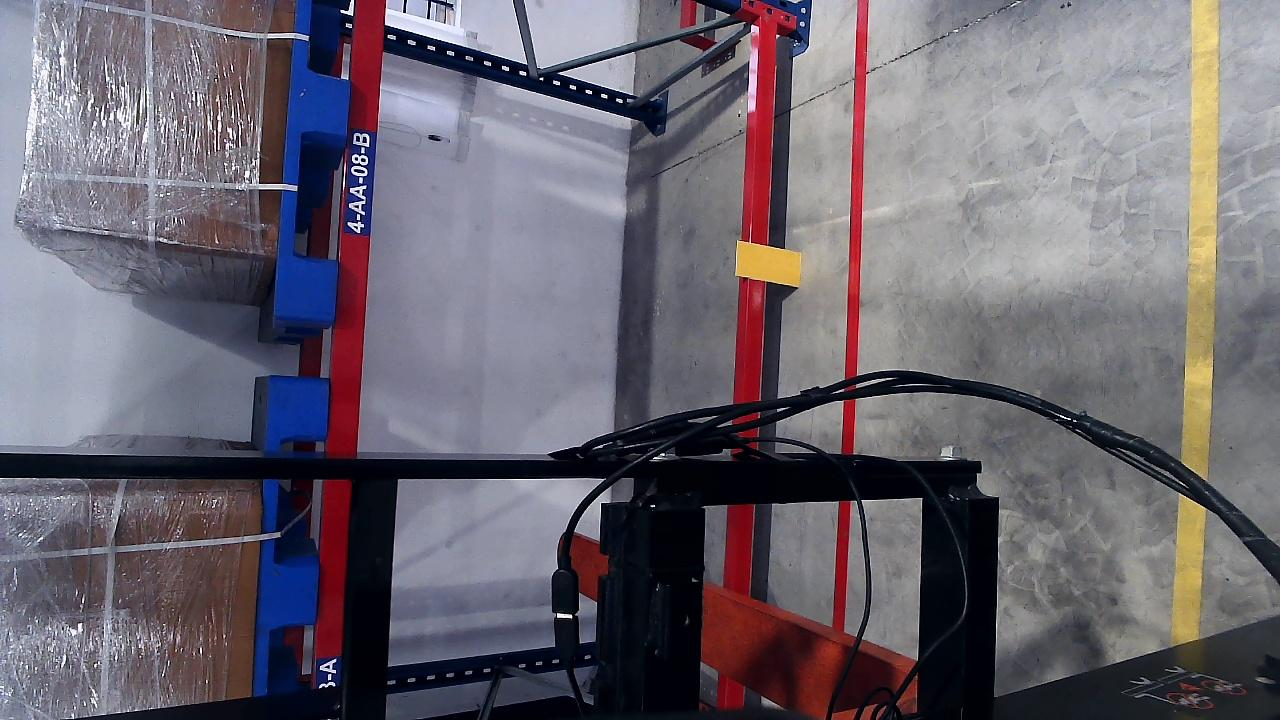h_rack: (322, 0, 390, 700), (722, 10, 780, 590)
orange_strip: (735, 241, 801, 287)
red_line: (827, 0, 864, 630)
small_pallet: (271, 0, 367, 317), (252, 378, 330, 698)
yellow_line: (1171, 4, 1222, 639)
